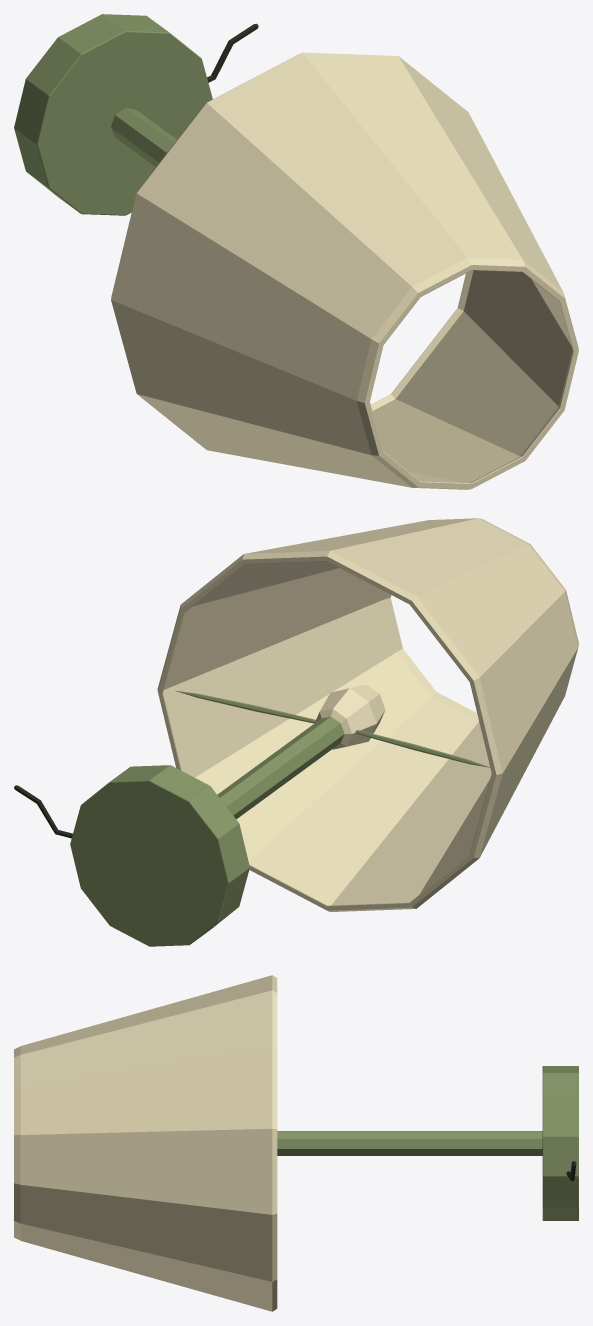
The model's file is table_lamp.glb.
The picture shows the model from 3 angles, top to bottom: view 1: azimuth 30°, elevation 25°; view 2: azimuth 150°, elevation 25°; view 3: azimuth 270°, elevation 25°; orthographic projection. The views are drawn at different scales.
Visible parts, largest first — view 1: table_lamp; view 2: table_lamp; view 3: table_lamp.
Boxes of the visible parts, box(x1,y1,x2,y2) form: table_lamp: box(14, 14, 578, 489); table_lamp: box(14, 518, 578, 946); table_lamp: box(14, 975, 578, 1311).
Bounding box in the file's own units: 0.204 × 0.204 × 0.341.
